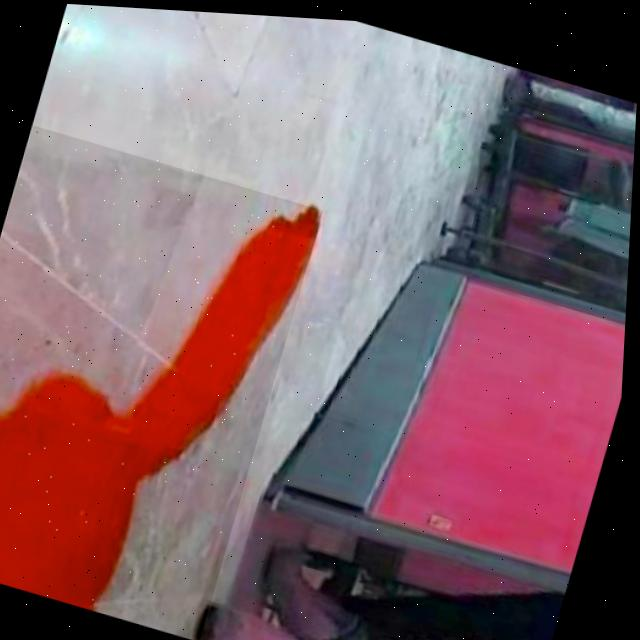spillage: (0, 201, 319, 608)
